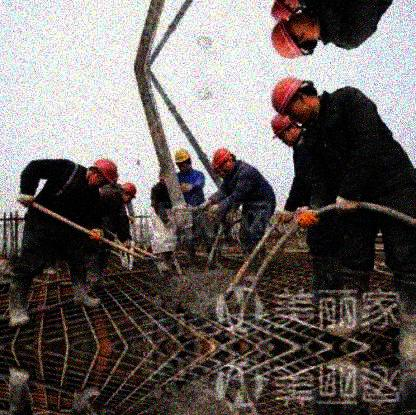helmet: (271, 76, 313, 125), (272, 12, 314, 59), (86, 158, 120, 191), (270, 112, 294, 147), (212, 146, 233, 174), (119, 181, 137, 204), (176, 150, 191, 174)
